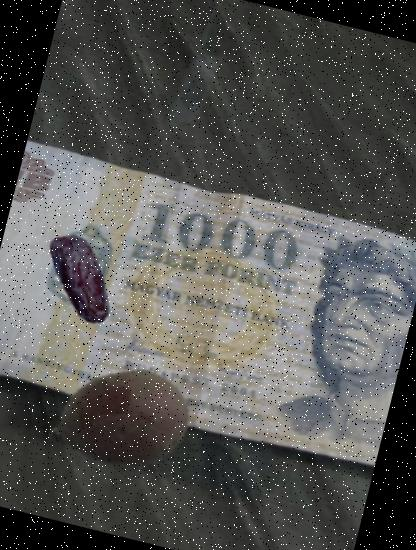Dates: (24, 219, 142, 338)
Potato: (37, 332, 207, 502)
